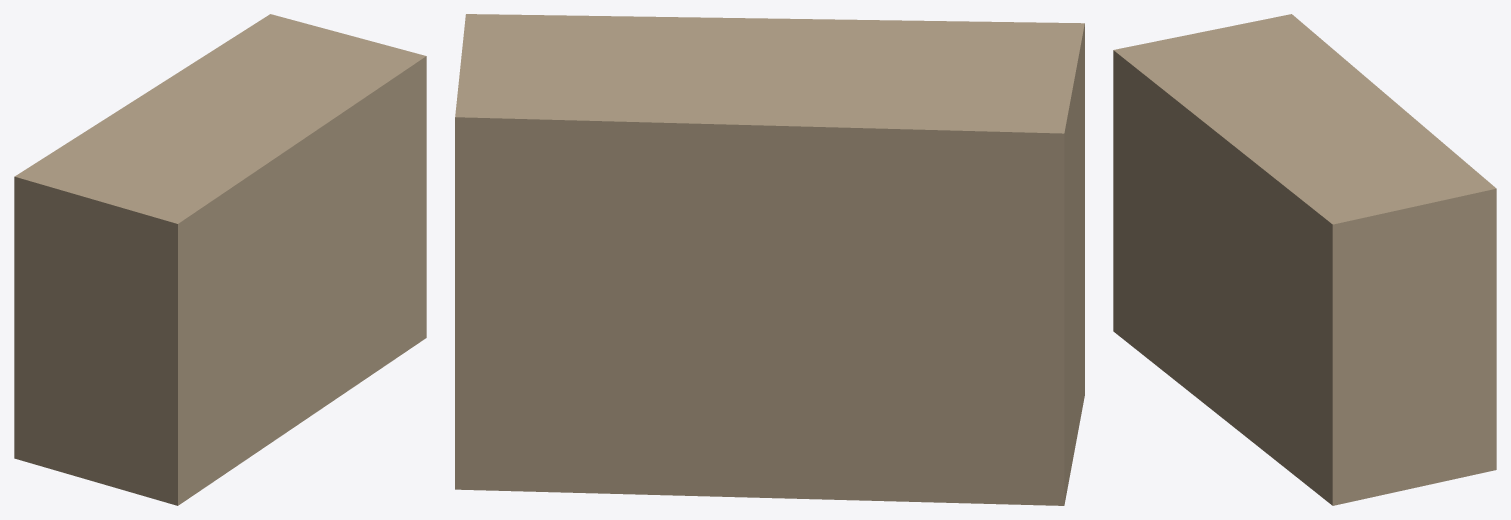
The model's file is bld_99003270.dae.
3 views of the same model, side by side, from view 1: azimuth 30°, elevation 25°; view 2: azimuth 150°, elevation 25°; view 3: azimuth 270°, elevation 25° (orthographic). The views are drawn at different scales.
Visible parts, largest first — view 1: bld_99003270; view 2: bld_99003270; view 3: bld_99003270.
Part boxes in pixels (left/top/right/bottom): bld_99003270: left=14, top=14, right=426, bottom=505; bld_99003270: left=455, top=14, right=1084, bottom=505; bld_99003270: left=1113, top=14, right=1496, bottom=505.
Size of the model in its own units: 12.84 by 9.88 by 8.
